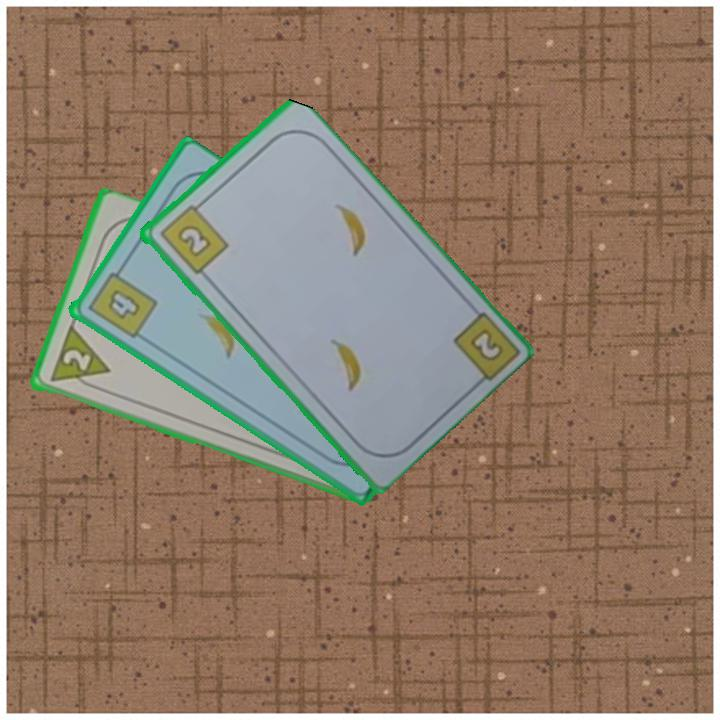2b: (155, 197, 231, 277), (465, 325, 506, 365)
2p: (45, 324, 112, 395)
4b: (83, 261, 159, 342)
